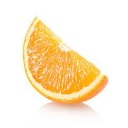orange: (20, 18, 111, 105)
